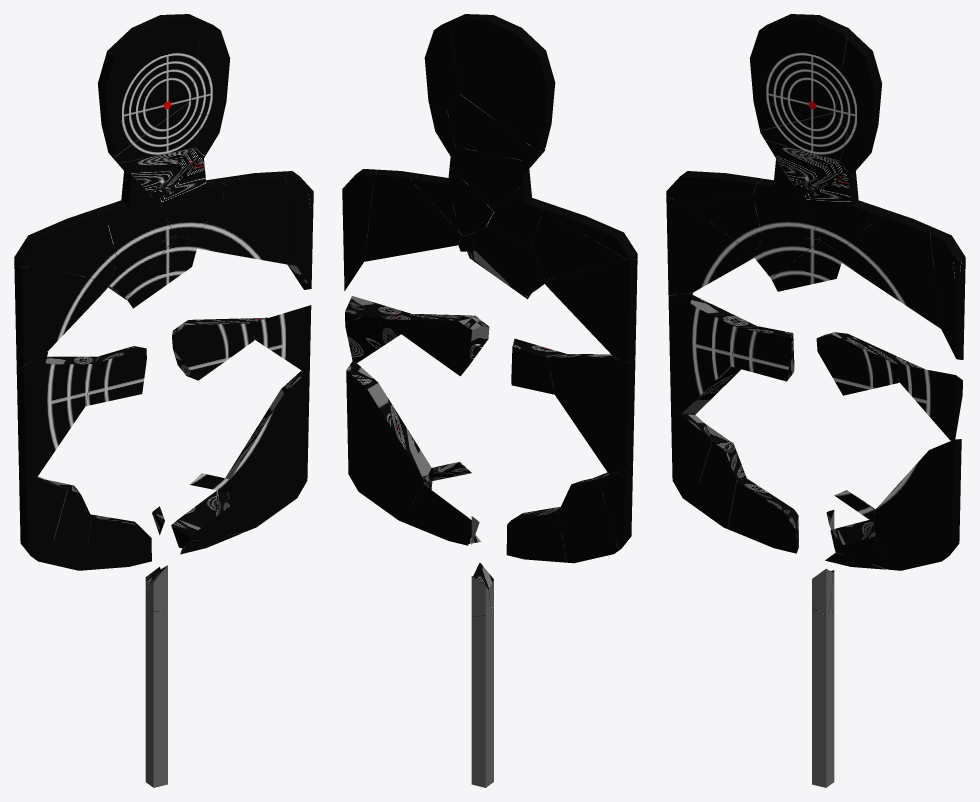
Rendered from Shattered Target.fbx.
3 views of the same model, side by side, from view 1: azimuth 30°, elevation 25°; view 2: azimuth 150°, elevation 25°; view 3: azimuth 330°, elevation 25° (orthographic).
Parts seen in each view (by area): view 1: Plane_cell.009, Plane_cell.033, Plane_cell.043, Plane_cell.007, Plane_cell.041, Plane_cell.039, Plane_cell.032, Plane_cell.026, Plane_cell.001, Plane_cell.038, Plane_cell.027, Plane_cell.011 (+13 smaller); view 2: Plane_cell.009, Plane_cell.033, Plane_cell.043, Plane_cell.007, Plane_cell.041, Plane_cell.039, Plane_cell.032, Plane_cell.037, Plane_cell.030, Plane_cell.045, Plane_cell.017, Plane_cell.036 (+13 smaller); view 3: Plane_cell.009, Plane_cell.033, Plane_cell.043, Plane_cell.007, Plane_cell.041, Plane_cell.039, Plane_cell.032, Plane_cell.011, Plane_cell.027, Plane_cell.038, Plane_cell.026, Plane_cell.008 (+14 smaller).
Boxes of the visible parts, x1,y1,x2,y2 form: Plane_cell.009: (97,14,201,155); Plane_cell.033: (225,370,309,531); Plane_cell.043: (16,356,97,477); Plane_cell.007: (193,172,295,265); Plane_cell.041: (14,258,109,367); Plane_cell.039: (145,607,167,787); Plane_cell.032: (172,317,267,380); Plane_cell.026: (104,177,174,260); Plane_cell.001: (19,472,67,563); Plane_cell.038: (157,155,225,239); Plane_cell.027: (83,514,151,570); Plane_cell.011: (191,18,230,116); Plane_cell.009: (449,14,555,151); Plane_cell.033: (346,361,432,522); Plane_cell.043: (548,354,635,474); Plane_cell.007: (364,169,462,261); Plane_cell.041: (545,258,637,362); Plane_cell.039: (471,607,493,787); Plane_cell.032: (380,314,489,376); Plane_cell.037: (558,478,617,563); Plane_cell.030: (533,210,624,279); Plane_cell.045: (449,147,538,211); Plane_cell.017: (447,94,543,162); Plane_cell.036: (469,226,545,295); Plane_cell.009: (749,14,856,130); Plane_cell.033: (874,439,961,570); Plane_cell.043: (668,295,756,414); Plane_cell.007: (838,213,940,328); Plane_cell.041: (666,196,754,295); Plane_cell.039: (812,607,834,787); Plane_cell.032: (816,332,924,395); Plane_cell.011: (835,36,882,136); Plane_cell.027: (728,478,798,553); Plane_cell.038: (802,172,870,252); Plane_cell.026: (753,160,819,239); Plane_cell.008: (930,227,965,359).
Size of the model in its own units: 199 by 502 by 17.74.
